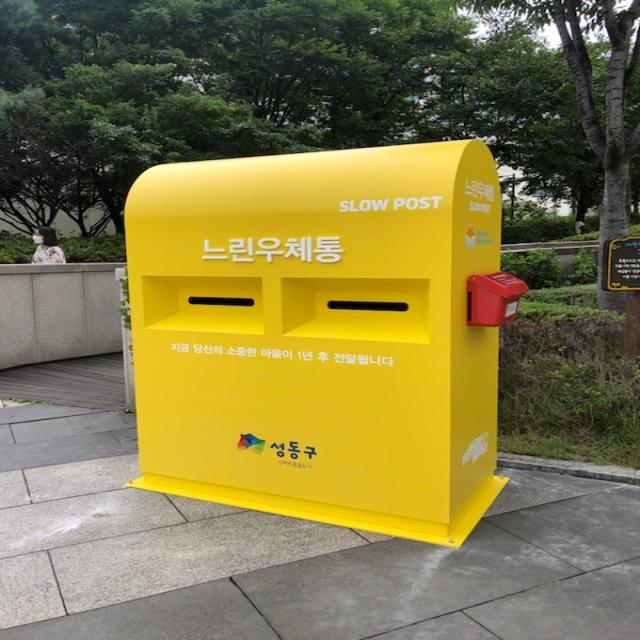Post Box: (118, 134, 508, 555)
